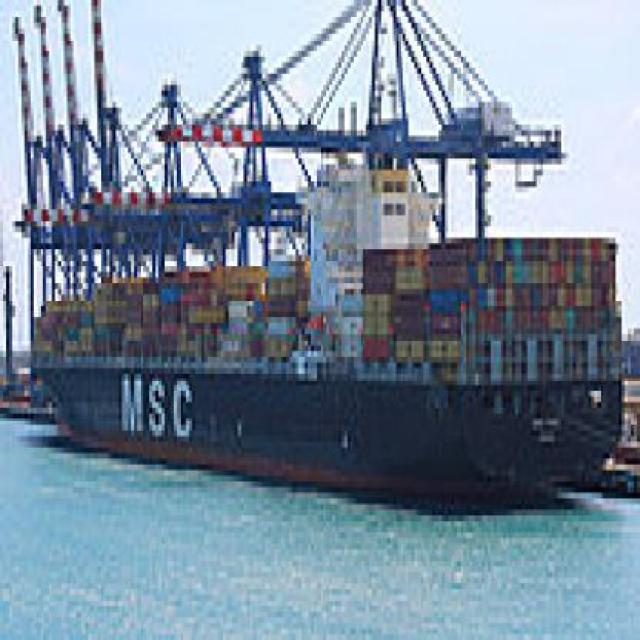container: (29, 245, 629, 511)
